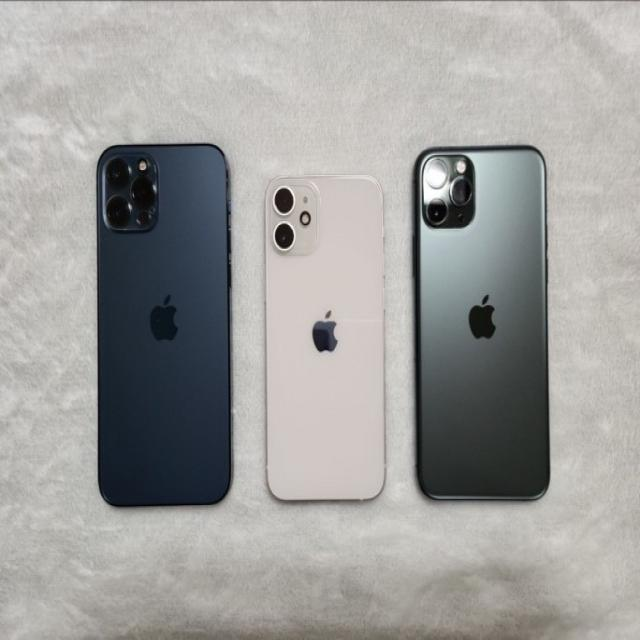phone: (96, 137, 238, 514), (412, 140, 550, 504), (264, 174, 388, 506)
